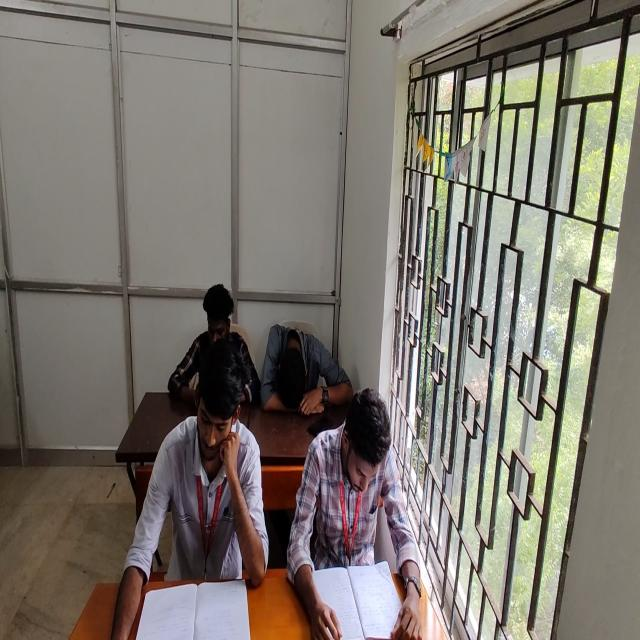reading: (116, 364, 274, 640), (285, 378, 447, 640)
sleeping: (256, 307, 366, 423)
using_mobile: (157, 270, 263, 414)
